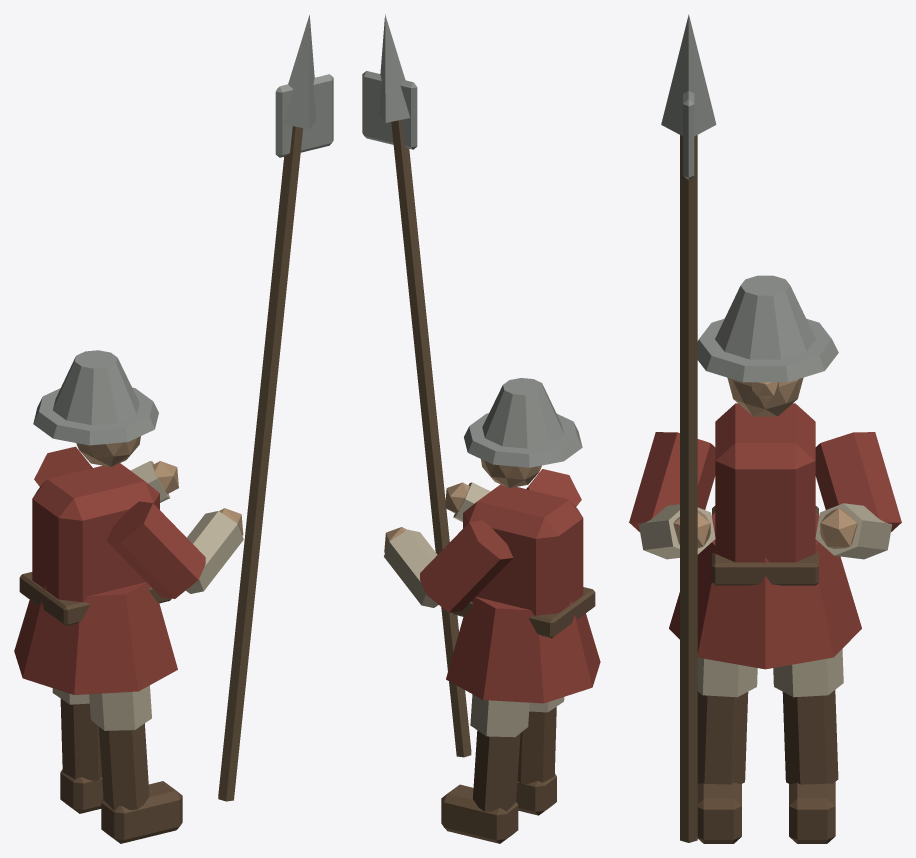
File: infantry_polearm_flat.glb
The picture shows the model from 3 angles, left to right: view 1: azimuth 30°, elevation 25°; view 2: azimuth 150°, elevation 25°; view 3: azimuth 270°, elevation 25°; orthographic projection. The views are drawn at different scales.
Visible parts, largest first — view 1: infantry_polearm_flat; view 2: infantry_polearm_flat; view 3: infantry_polearm_flat.
Boxes of the visible parts, left/top/right/bottom form: infantry_polearm_flat: left=14, top=15, right=333, bottom=843; infantry_polearm_flat: left=362, top=14, right=600, bottom=843; infantry_polearm_flat: left=629, top=14, right=901, bottom=843.
Bounding box in the file's own units: 1.09 × 2.98 × 0.8186.
